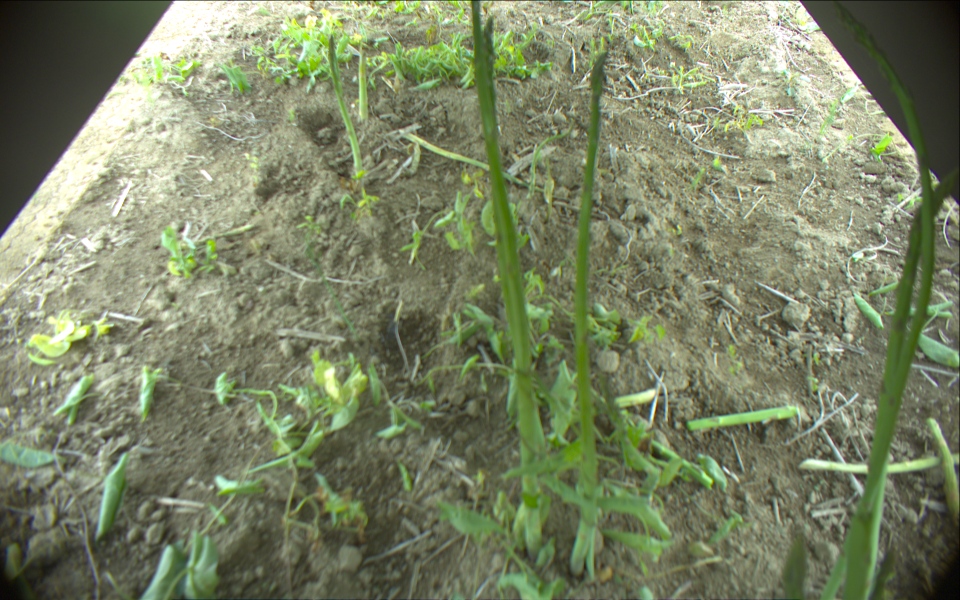aspa: (469, 1, 542, 557), (481, 16, 546, 458), (570, 51, 607, 577), (397, 130, 546, 190), (327, 37, 362, 177), (526, 113, 577, 196), (799, 450, 960, 474), (925, 417, 960, 516), (686, 404, 794, 431), (782, 521, 807, 600), (355, 45, 370, 120), (609, 389, 656, 411)
